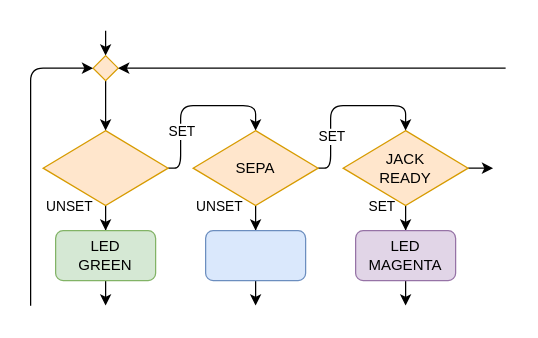
This 538x338 diagram has some shape labels left out. Here are the shapes that lost their labels. From the top down, the centre of each, then its label:
the point at 105,167: JACK LAUNCH
the point at 255,255: LED BLUE
